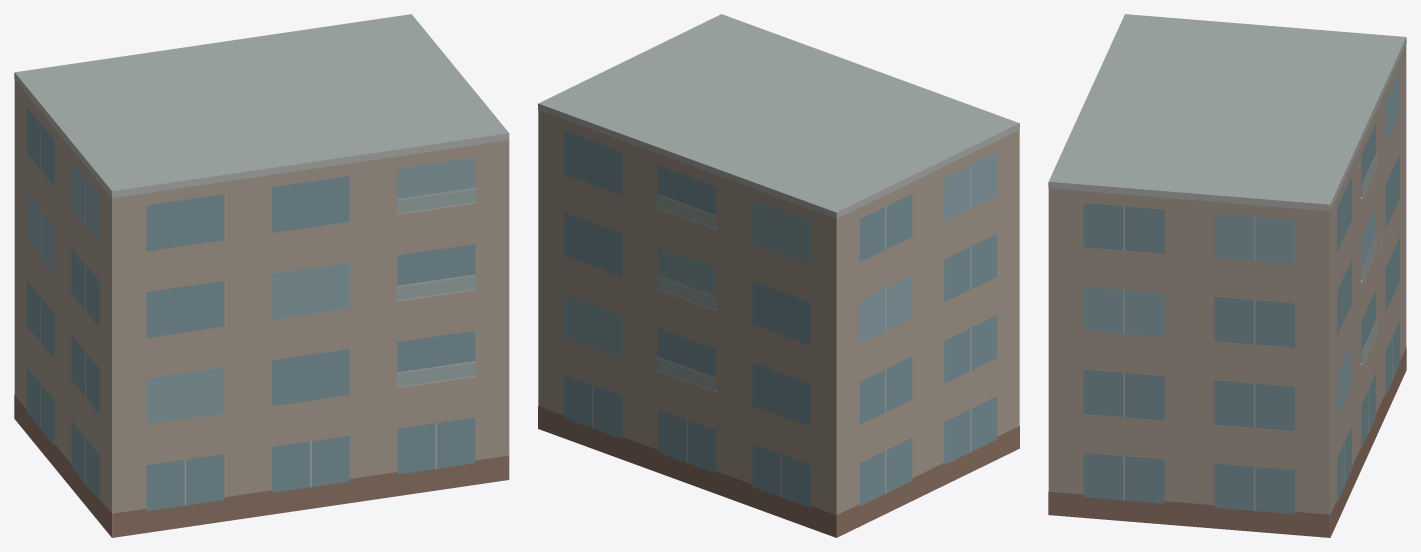
Rendered from residential-1c5a46fb-7ada-4433-9b3d-447f4b346494.glb.
3 views of the same model, side by side, from view 1: azimuth 30°, elevation 25°; view 2: azimuth 150°, elevation 25°; view 3: azimuth 270°, elevation 25° (orthographic). The views are drawn at different scales.
Visible parts, largest first — view 1: residential-1c5a46fb-7ada-4433-9b3d-447f4b346494.tmp; view 2: residential-1c5a46fb-7ada-4433-9b3d-447f4b346494.tmp; view 3: residential-1c5a46fb-7ada-4433-9b3d-447f4b346494.tmp.
Part boxes in pixels (left/top/right/bottom): residential-1c5a46fb-7ada-4433-9b3d-447f4b346494.tmp: left=14, top=14, right=509, bottom=537; residential-1c5a46fb-7ada-4433-9b3d-447f4b346494.tmp: left=538, top=14, right=1019, bottom=537; residential-1c5a46fb-7ada-4433-9b3d-447f4b346494.tmp: left=1048, top=14, right=1406, bottom=537.
Size of the model in its own units: 14.98 by 12.2 by 11.89.
